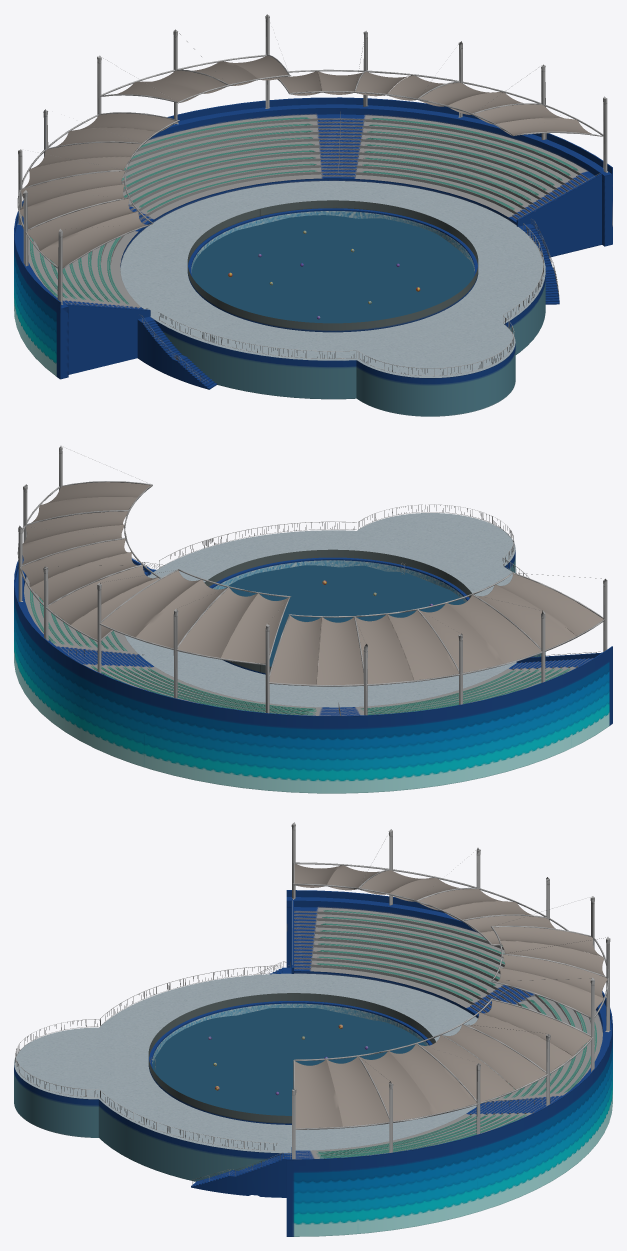
File: DolphinShow_LOD1.fbx
The picture shows the model from 3 angles, top to bottom: view 1: azimuth 30°, elevation 25°; view 2: azimuth 150°, elevation 25°; view 3: azimuth 270°, elevation 25°; orthographic projection.
Visible parts, largest first — view 1: DolphinShow_Body, Water; view 2: DolphinShow_Body, Water; view 3: DolphinShow_Body, Water.
Part boxes in pixels (x1,y1,x2,y2): DolphinShow_Body: [14, 14, 612, 416]; Water: [191, 215, 474, 323]; DolphinShow_Body: [14, 446, 612, 793]; Water: [224, 565, 464, 666]; DolphinShow_Body: [14, 822, 612, 1236]; Water: [152, 1008, 425, 1115].
Size of the model in its own units: 3543 by 1013 by 3326.
Materials: 1 (1 with a texture image).
